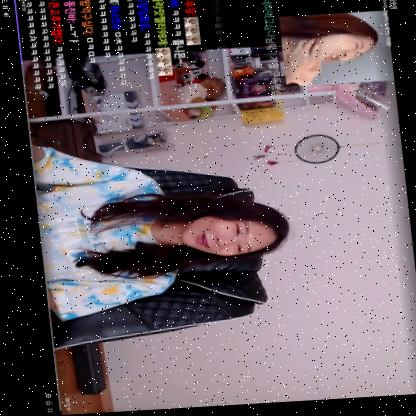donation: (258, 0, 393, 117)
streamer: (27, 134, 292, 323)
